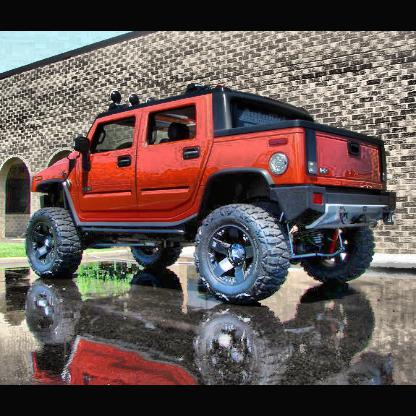HUMMER H2 SUT Crew Cab 2009: (25, 84, 395, 303)
